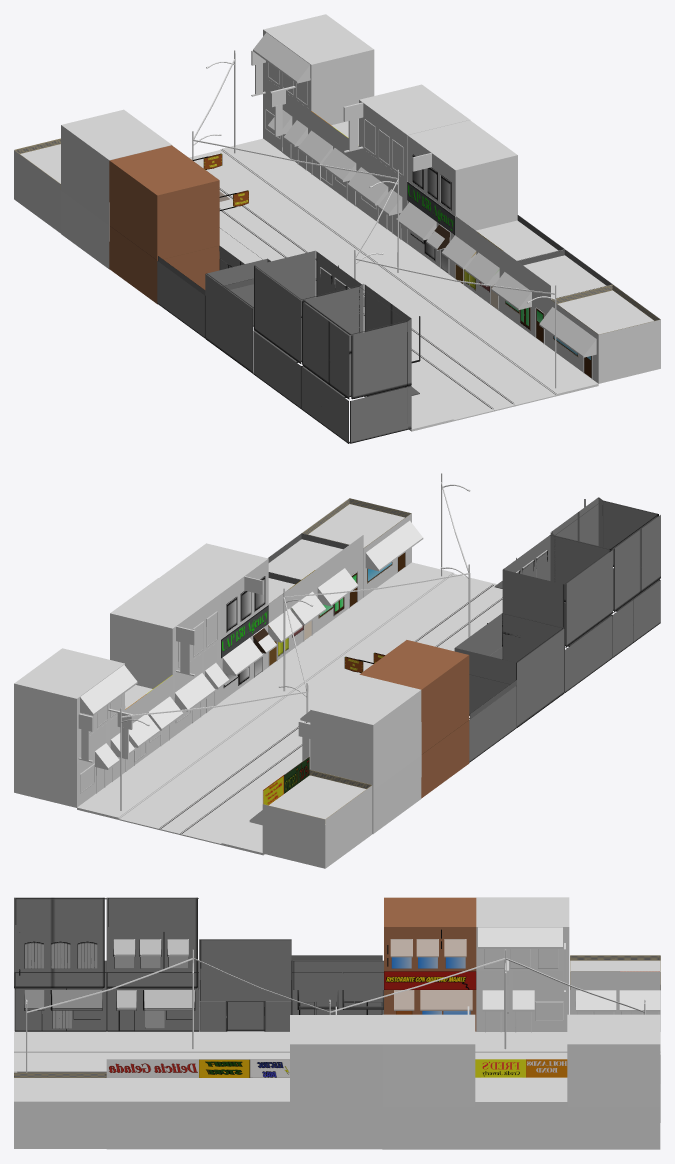
Rendered from CenaChicago40.fbx.
3 renders of one model, top to bottom at view 1: azimuth 30°, elevation 25°; view 2: azimuth 150°, elevation 25°; view 3: azimuth 270°, elevation 25°, orthographic. The views are drawn at different scales.
Visible parts, largest first — view 1: Street, Ed08, Sidewalk, Ed12, Ed04, Ed07, Ed09, Ed05, Ed01, Ed13, Ed02, Ed03 (+6 smaller); view 2: Street, Ed07, Sidewalk, Ed13, Ed05, Ed09, Ed08, Ed14, Ed12, Ed04, Ed10, Ed01 (+6 smaller); view 3: Ed05, Ed07, Ed04, Ed13, Ed08, Ed09, Ed12, Ed10, Ed06, Ed02, Ed03, Sidewalk.001 (+5 smaller).
Part boxes in pixels (x1,y1,x2,y2): Street: (189,150,555,420); Ed08: (301,284,420,443); Sidewalk: (220,138,598,396); Ed12: (109,145,248,304); Ed04: (396,120,517,278); Ed07: (251,14,374,173); Ed09: (253,250,364,408); Ed05: (343,84,469,243); Ed01: (539,284,660,383); Ed13: (61,109,172,269); Ed02: (491,249,612,348); Ed03: (441,215,564,313); Street: (119,574,502,844); Ed07: (14,648,137,807); Sidewalk: (77,562,454,819); Ed13: (298,674,421,833); Ed05: (110,578,229,736); Ed09: (494,535,612,692); Ed08: (550,497,660,657); Ed14: (249,756,372,868); Ed12: (344,640,469,798); Ed04: (159,543,276,701); Ed10: (454,613,564,727); Ed01: (302,498,423,597); Ed05: (382,1006,475,1149); Ed07: (567,1014,660,1149); Ed04: (290,1006,382,1149); Ed13: (476,897,569,1032); Ed08: (14,897,106,1031); Ed09: (106,897,198,1031); Ed12: (384,897,476,1031); Ed10: (199,939,291,1031); Ed06: (475,1059,567,1149); Ed02: (106,1059,198,1149); Ed03: (199,1059,291,1149); Sidewalk.001: (14,1031,660,1052).
Bounding box in the file's own units: 15.03 × 5.2 × 27.97.
2 materials, 1 textured.
